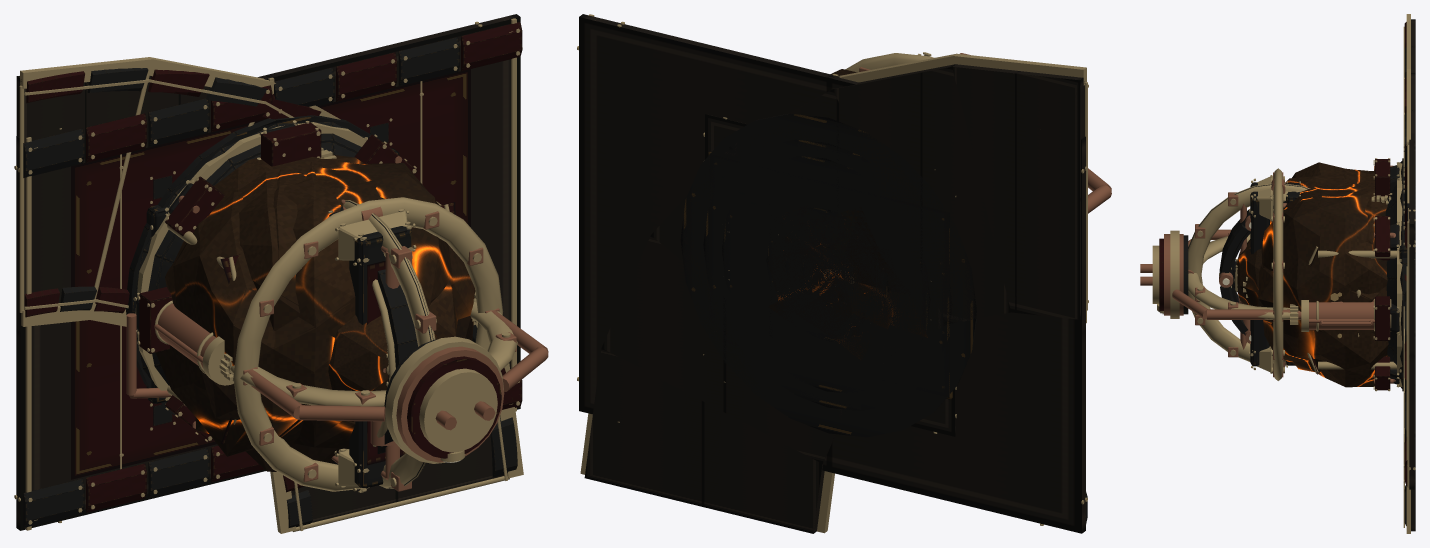
File: world-high.glb
3 views of the same model, side by side, from view 1: azimuth 30°, elevation 25°; view 2: azimuth 150°, elevation 25°; view 3: azimuth 270°, elevation 25° (orthographic). The views are drawn at different scales.
Parts seen in each view (by area): view 1: track-straight-root / Burgundy enamel, track-straight-root / Riveted iron road, ore-small-root / Veined natural slate, track-bend-root / Riveted iron road, Gimbal bearing.002 / Machined brass, track-straight-root / Riveted iron, reactor-root / Machined brass, track-bend-root / Machined brass, ore-captured-root / Veined natural slate, reactor-root / Copper feed lines, ore-large-root / Veined natural slate, reactor-root / Burgundy enamel (+17 smaller); view 2: track-bend-root / Riveted iron road, track-straight-root / Riveted iron road, gate-marker-root / Riveted iron, deposit-root / Riveted iron, reactor-root / Riveted iron, pit-station-root / Riveted iron, drop-capsule-root / Riveted iron, drop-core-root / Riveted iron, track-bend-root / Machined brass, drop-crystal-root / Riveted iron, gantry-root / Riveted iron, floor-tile-root / Riveted iron road (+8 smaller); view 3: ore-medium-root / Veined natural slate, reactor-root / Copper feed lines, reactor-root / Riveted iron, reactor-root / Machined brass, Gimbal bearing / Machined brass, reactor-root / Burgundy enamel, Gimbal bearing.002 / Machined brass, track-bend-root / Machined brass, track-straight-root / Riveted iron road, Gimbal bearing.001 / Machined brass, gantry-root / Riveted iron, ore-small-root / Veined natural slate (+13 smaller).
Part boxes in pixels (<box>): track-straight-root / Burgundy enamel: <box>71,21,522,512</box>; track-straight-root / Riveted iron road: <box>16,14,520,530</box>; ore-small-root / Veined natural slate: <box>156,155,364,456</box>; track-bend-root / Riveted iron road: <box>16,76,504,522</box>; Gimbal bearing.002 / Machined brass: <box>233,197,503,491</box>; track-straight-root / Riveted iron: <box>23,37,459,528</box>; reactor-root / Machined brass: <box>133,120,503,463</box>; track-bend-root / Machined brass: <box>19,57,523,533</box>; ore-captured-root / Veined natural slate: <box>165,157,384,471</box>; reactor-root / Copper feed lines: <box>126,156,548,462</box>; ore-large-root / Veined natural slate: <box>157,177,457,455</box>; reactor-root / Burgundy enamel: <box>139,122,501,458</box>; track-bend-root / Riveted iron road: <box>584,64,1084,533</box>; track-straight-root / Riveted iron road: <box>579,14,1085,533</box>; gate-marker-root / Riveted iron: <box>703,139,952,410</box>; deposit-root / Riveted iron: <box>722,156,930,393</box>; reactor-root / Riveted iron: <box>680,113,976,437</box>; pit-station-root / Riveted iron: <box>708,151,952,399</box>; drop-capsule-root / Riveted iron: <box>766,208,888,342</box>; drop-core-root / Riveted iron: <box>767,208,888,339</box>; track-bend-root / Machined brass: <box>580,53,1088,533</box>; drop-crystal-root / Riveted iron: <box>768,210,889,339</box>; gantry-root / Riveted iron: <box>798,141,861,409</box>; floor-tile-root / Riveted iron road: <box>705,114,955,436</box>; ore-medium-root / Veined natural slate: <box>1261,165,1388,387</box>; reactor-root / Copper feed lines: <box>1140,165,1395,383</box>; reactor-root / Riveted iron: <box>1160,158,1415,391</box>; reactor-root / Machined brass: <box>1152,158,1402,391</box>; Gimbal bearing / Machined brass: <box>1188,183,1309,365</box>; reactor-root / Burgundy enamel: <box>1159,159,1390,390</box>; Gimbal bearing.002 / Machined brass: <box>1271,168,1284,380</box>; track-bend-root / Machined brass: <box>1403,14,1410,533</box>; track-straight-root / Riveted iron road: <box>1409,133,1414,489</box>; Gimbal bearing.001 / Machined brass: <box>1188,234,1298,319</box>; gantry-root / Riveted iron: <box>1250,182,1269,366</box>; ore-small-root / Veined natural slate: <box>1264,170,1387,372</box>.
Bounding box in the file's own units: 4 × 4 × 2.8.
Materials: 15 (5 with a texture image).
